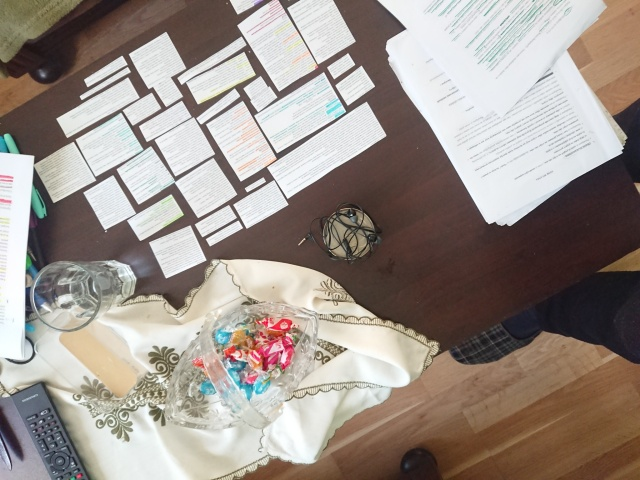Gavrilovic Pork Liver Pate 100g: (320, 205, 377, 262)
